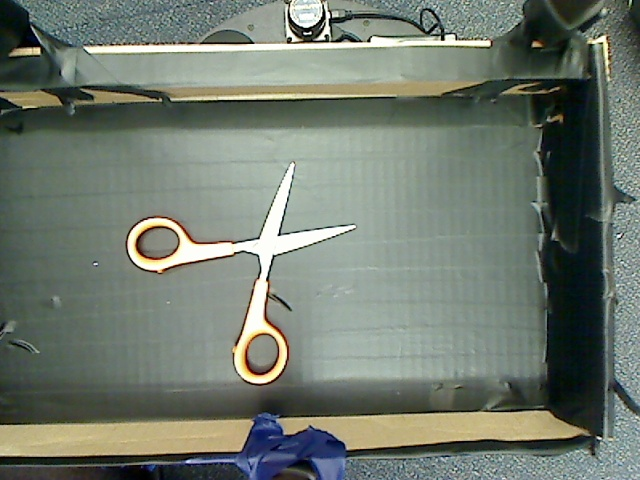scissors: (126, 154, 363, 384)
